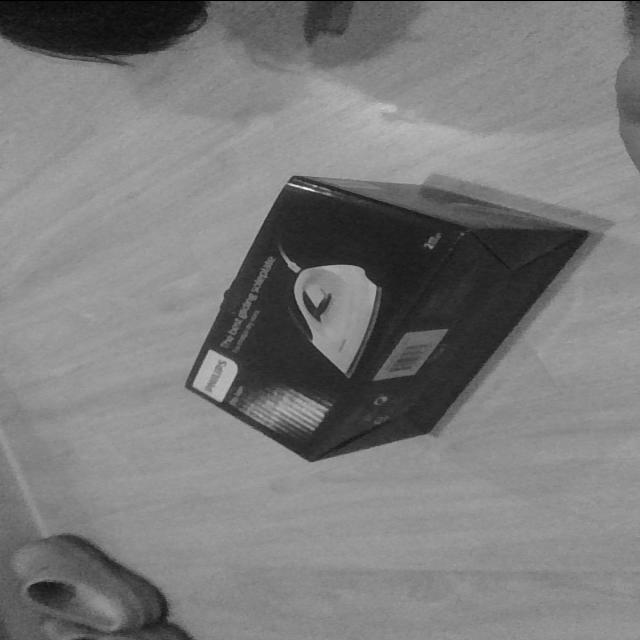IRON: (179, 172, 602, 463)
